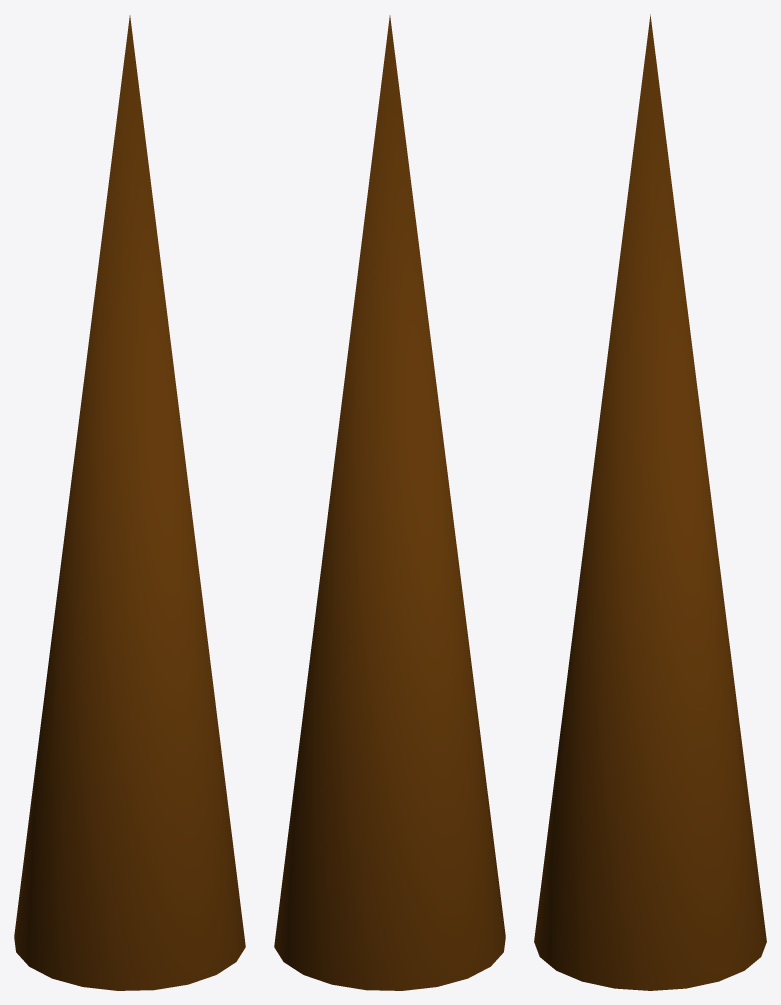
The model's file is FloorSpikes.fbx.
3 renders of one model, left to right at view 1: azimuth 30°, elevation 25°; view 2: azimuth 150°, elevation 25°; view 3: azimuth 270°, elevation 25°, orthographic.
Visible parts, largest first — view 1: pasted__pCone2; view 2: pasted__pCone2; view 3: pasted__pCone2.
Boxes of the visible parts, <box> form: pasted__pCone2: <box>14,15,245,990</box>; pasted__pCone2: <box>274,15,505,990</box>; pasted__pCone2: <box>534,14,766,990</box>.
Size of the model in its own units: 1.1 by 4.83 by 1.1.
